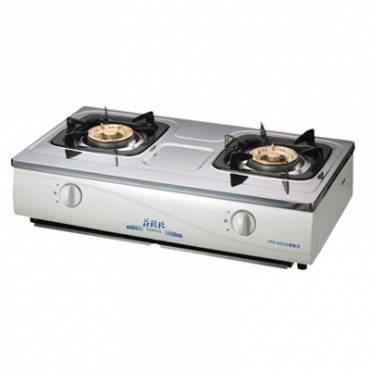gasoven: (5, 97, 363, 273)
